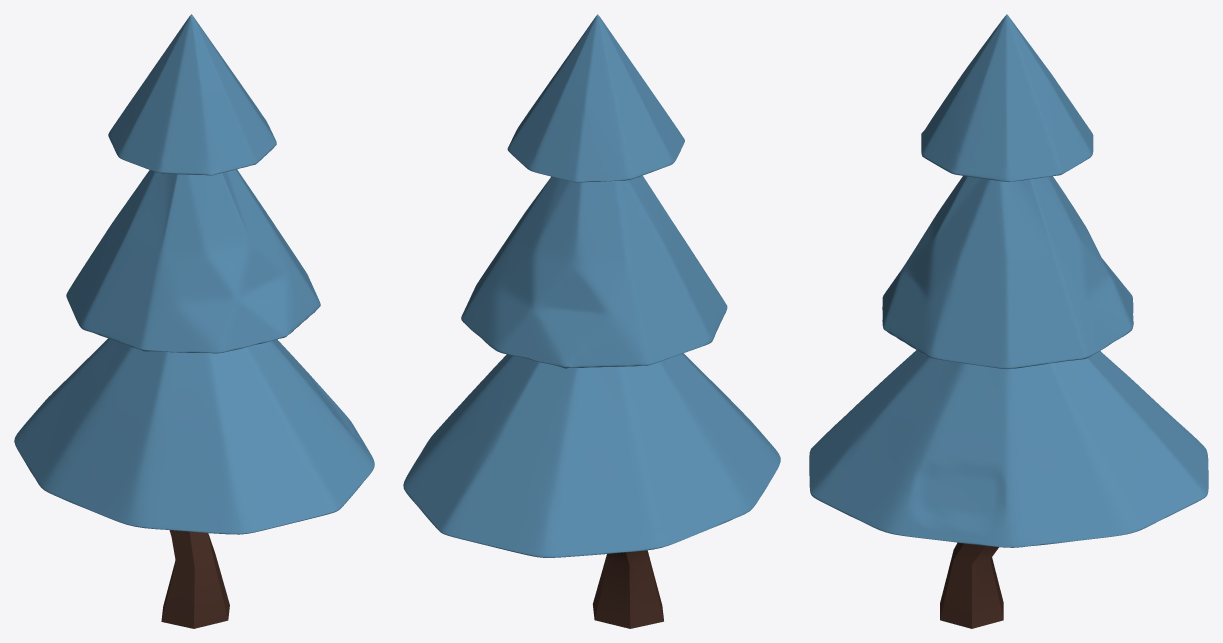
The model's file is spruce poly tree.fbx.
3 renders of one model, left to right at view 1: azimuth 30°, elevation 25°; view 2: azimuth 150°, elevation 25°; view 3: azimuth 270°, elevation 25°, orthographic. The views are drawn at different scales.
Parts seen in each view (by area): view 1: pCylinder1, pCylinder2; view 2: pCylinder1, pCylinder2; view 3: pCylinder1, pCylinder2.
Boxes of the visible parts, x1,y1,x2,y2 form: pCylinder1: (14, 14, 374, 534); pCylinder2: (161, 530, 229, 628); pCylinder1: (403, 14, 780, 557); pCylinder2: (592, 550, 663, 628); pCylinder1: (809, 14, 1208, 547); pCylinder2: (940, 542, 1003, 628).
Bounding box in the file's own units: 619 × 1145 × 686.
